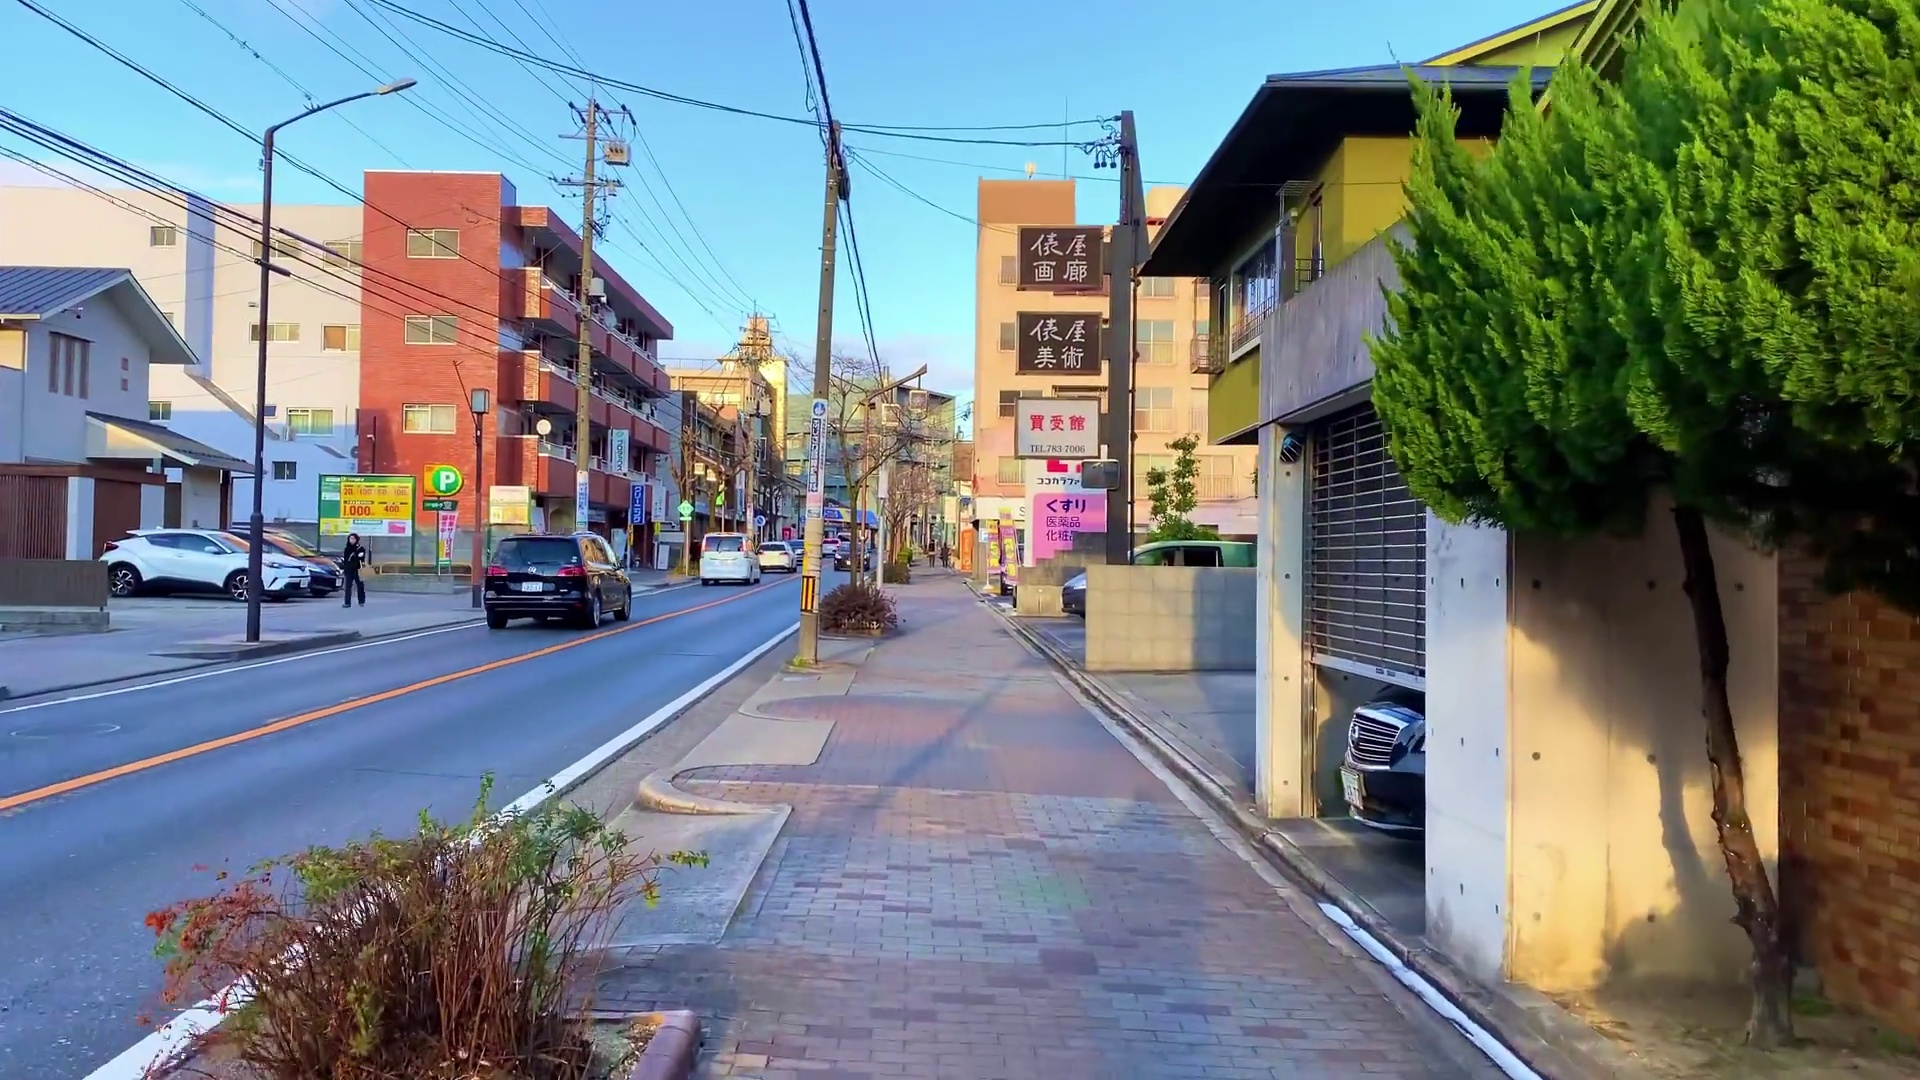car: (98, 527, 327, 603), (484, 529, 636, 634), (698, 531, 761, 589)
